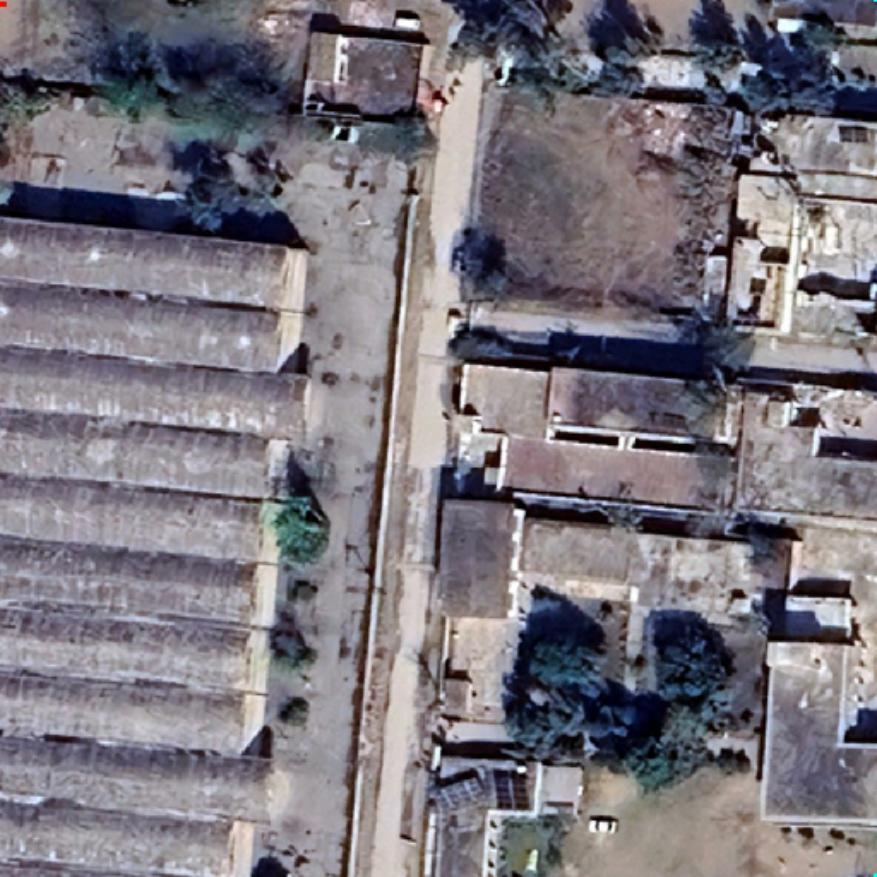Solarpanel: (426, 772, 489, 819), (490, 763, 534, 813), (835, 124, 873, 144)
